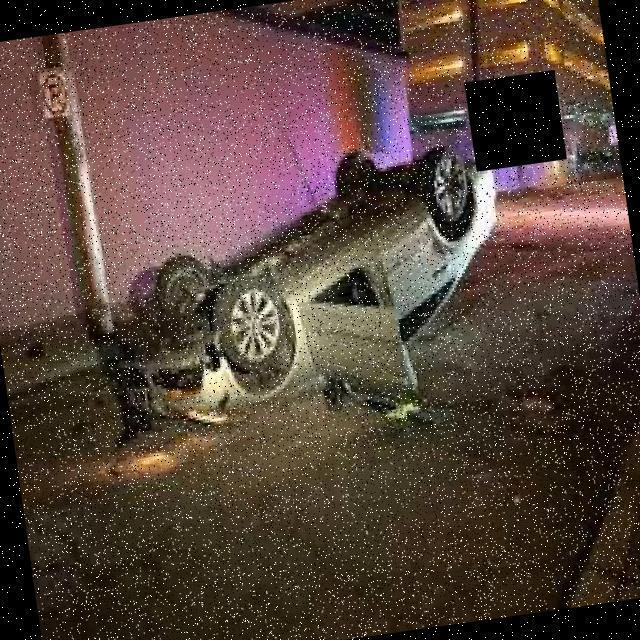accident: (85, 113, 531, 454)
